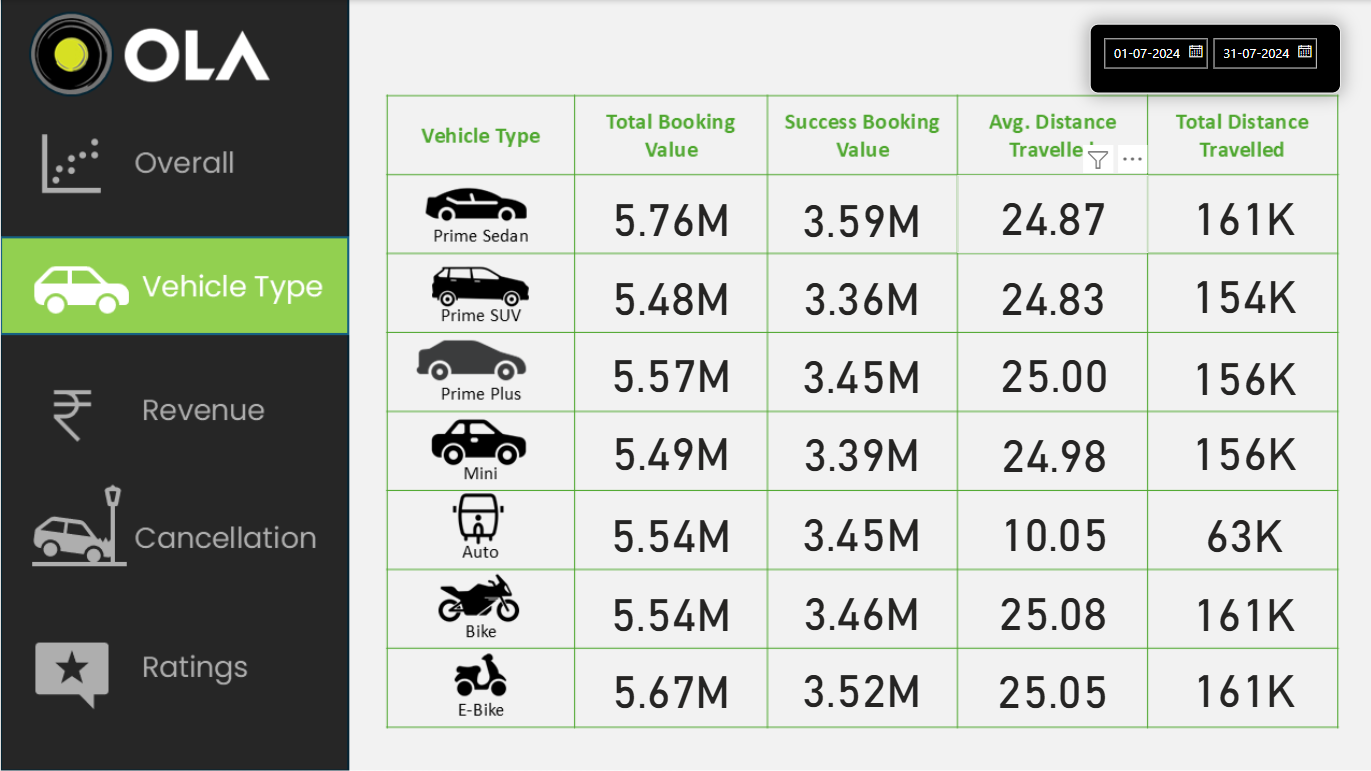

The dashboard page shown, as its layout file describes it:
{"tool":"powerbi","page":{"name":"vehicle type","canvas":[1280,720],"ordinal":1},"visuals":[{"type":"actionButton","box":[0,220.8,324.5,92.9],"z":0},{"type":"actionButton","box":[0,335.4,324.5,92.9],"z":1000},{"type":"actionButton","box":[0,447.6,324.5,92.9],"z":2000},{"type":"actionButton","box":[0,575.5,324.5,92.9],"z":3000},{"type":"card","fields":{"Values":["Sum(July.Booking_Value)"]},"box":[533.2,164.1,178.6,72.4],"z":4000},{"type":"card","fields":{"Values":["Sum(July.Booking_Value)"]},"box":[533.8,237.4,178.4,72.7],"z":5000},{"type":"card","fields":{"Values":["Sum(July.Booking_Value)"]},"box":[533.8,308.7,178.4,72.7],"z":6000},{"type":"card","fields":{"Values":["Sum(July.Booking_Value)"]},"box":[533.8,381.5,178.4,72.7],"z":7000},{"type":"card","fields":{"Values":["Sum(July.Booking_Value)"]},"box":[533.8,458.3,178.4,72.7],"z":8000},{"type":"card","fields":{"Values":["Sum(July.Booking_Value)"]},"box":[533.8,531,178.4,72.7],"z":9000},{"type":"card","fields":{"Values":["Sum(July.Booking_Value)"]},"box":[533.8,603.8,178.4,72.7],"z":10000},{"type":"card","fields":{"Values":["Sum(July.Booking_Value)"]},"box":[712.2,164.7,178.4,72.7],"z":11000},{"type":"card","fields":{"Values":["Sum(July.Booking_Value)"]},"box":[712.2,237.4,178.4,72.7],"z":12000},{"type":"card","fields":{"Values":["Sum(July.Booking_Value)"]},"box":[712.2,310.1,178.4,72.7],"z":13000},{"type":"card","fields":{"Values":["Sum(July.Booking_Value)"]},"box":[712.2,382.8,178.4,72.7],"z":14000},{"type":"card","fields":{"Values":["Sum(July.Booking_Value)"]},"box":[712.2,456.9,178.4,72.7],"z":15000},{"type":"card","fields":{"Values":["Sum(July.Booking_Value)"]},"box":[712.2,529.7,178.4,72.7],"z":16000},{"type":"card","fields":{"Values":["Sum(July.Booking_Value)"]},"box":[712.2,602.4,178.4,72.7],"z":17000},{"type":"card","fields":{"Values":["Avg(July.Ride_Distance)"]},"box":[889.2,163.3,178.4,72.7],"z":18000},{"type":"card","fields":{"Values":["Avg(July.Ride_Distance)"]},"box":[889.2,237.4,178.4,72.7],"z":19000},{"type":"card","fields":{"Values":["Avg(July.Ride_Distance)"]},"box":[890.6,308.7,178.4,72.7],"z":20000},{"type":"card","fields":{"Values":["Avg(July.Ride_Distance)"]},"box":[890.6,384.2,178.4,72.7],"z":21000},{"type":"card","fields":{"Values":["Avg(July.Ride_Distance)"]},"box":[890.6,456.9,178.4,72.7],"z":22000},{"type":"card","fields":{"Values":["Avg(July.Ride_Distance)"]},"box":[889.2,529.7,178.4,72.7],"z":23000},{"type":"card","fields":{"Values":["Avg(July.Ride_Distance)"]},"box":[889.2,603.8,178.4,72.7],"z":24000},{"type":"card","fields":{"Values":["Sum(July.Ride_Distance)"]},"box":[1067.6,163.3,178.4,72.7],"z":25000},{"type":"card","fields":{"Values":["Sum(July.Ride_Distance)"]},"box":[1067.6,236,178.4,72.7],"z":26000},{"type":"card","fields":{"Values":["Sum(July.Ride_Distance)"]},"box":[1067.6,311.5,178.4,72.7],"z":27000},{"type":"card","fields":{"Values":["Sum(July.Ride_Distance)"]},"box":[1067.6,381.5,178.4,72.7],"z":28000},{"type":"card","fields":{"Values":["Sum(July.Ride_Distance)"]},"box":[1067.6,458.3,178.4,72.7],"z":29000},{"type":"card","fields":{"Values":["Sum(July.Ride_Distance)"]},"box":[1067.6,531,178.4,72.7],"z":30000},{"type":"card","fields":{"Values":["Sum(July.Ride_Distance)"]},"box":[1067.6,602.4,178.4,72.7],"z":31000},{"type":"slicer","title":"Date","fields":{"Values":["July.Date"]},"box":[1012.7,22,233.3,64.5],"z":32000},{"type":"actionButton","box":[0,108.4,325.2,91.9],"z":33000}]}

Visuals, with their boxes on the page's 1280x720 design canvas (x1, y1, x2, y2). These are canvas units, not pixel positions in the 1371x771 screenshot, which may show the page scaled, cropped or inside an application window:
actionButton: {"x1": 0, "y1": 221, "x2": 324, "y2": 314}
actionButton: {"x1": 0, "y1": 335, "x2": 324, "y2": 428}
actionButton: {"x1": 0, "y1": 448, "x2": 324, "y2": 540}
actionButton: {"x1": 0, "y1": 576, "x2": 324, "y2": 668}
card - Sum(July.Booking_Value): {"x1": 533, "y1": 164, "x2": 712, "y2": 236}
card - Sum(July.Booking_Value): {"x1": 534, "y1": 237, "x2": 712, "y2": 310}
card - Sum(July.Booking_Value): {"x1": 534, "y1": 309, "x2": 712, "y2": 381}
card - Sum(July.Booking_Value): {"x1": 534, "y1": 382, "x2": 712, "y2": 454}
card - Sum(July.Booking_Value): {"x1": 534, "y1": 458, "x2": 712, "y2": 531}
card - Sum(July.Booking_Value): {"x1": 534, "y1": 531, "x2": 712, "y2": 604}
card - Sum(July.Booking_Value): {"x1": 534, "y1": 604, "x2": 712, "y2": 676}
card - Sum(July.Booking_Value): {"x1": 712, "y1": 165, "x2": 891, "y2": 237}
card - Sum(July.Booking_Value): {"x1": 712, "y1": 237, "x2": 891, "y2": 310}
card - Sum(July.Booking_Value): {"x1": 712, "y1": 310, "x2": 891, "y2": 383}
card - Sum(July.Booking_Value): {"x1": 712, "y1": 383, "x2": 891, "y2": 456}
card - Sum(July.Booking_Value): {"x1": 712, "y1": 457, "x2": 891, "y2": 530}
card - Sum(July.Booking_Value): {"x1": 712, "y1": 530, "x2": 891, "y2": 602}
card - Sum(July.Booking_Value): {"x1": 712, "y1": 602, "x2": 891, "y2": 675}
card - Avg(July.Ride_Distance): {"x1": 889, "y1": 163, "x2": 1068, "y2": 236}
card - Avg(July.Ride_Distance): {"x1": 889, "y1": 237, "x2": 1068, "y2": 310}
card - Avg(July.Ride_Distance): {"x1": 891, "y1": 309, "x2": 1069, "y2": 381}
card - Avg(July.Ride_Distance): {"x1": 891, "y1": 384, "x2": 1069, "y2": 457}
card - Avg(July.Ride_Distance): {"x1": 891, "y1": 457, "x2": 1069, "y2": 530}
card - Avg(July.Ride_Distance): {"x1": 889, "y1": 530, "x2": 1068, "y2": 602}
card - Avg(July.Ride_Distance): {"x1": 889, "y1": 604, "x2": 1068, "y2": 676}
card - Sum(July.Ride_Distance): {"x1": 1068, "y1": 163, "x2": 1246, "y2": 236}
card - Sum(July.Ride_Distance): {"x1": 1068, "y1": 236, "x2": 1246, "y2": 309}
card - Sum(July.Ride_Distance): {"x1": 1068, "y1": 312, "x2": 1246, "y2": 384}
card - Sum(July.Ride_Distance): {"x1": 1068, "y1": 382, "x2": 1246, "y2": 454}
card - Sum(July.Ride_Distance): {"x1": 1068, "y1": 458, "x2": 1246, "y2": 531}
card - Sum(July.Ride_Distance): {"x1": 1068, "y1": 531, "x2": 1246, "y2": 604}
card - Sum(July.Ride_Distance): {"x1": 1068, "y1": 602, "x2": 1246, "y2": 675}
"Date" slicer: {"x1": 1013, "y1": 22, "x2": 1246, "y2": 86}
actionButton: {"x1": 0, "y1": 108, "x2": 325, "y2": 200}
